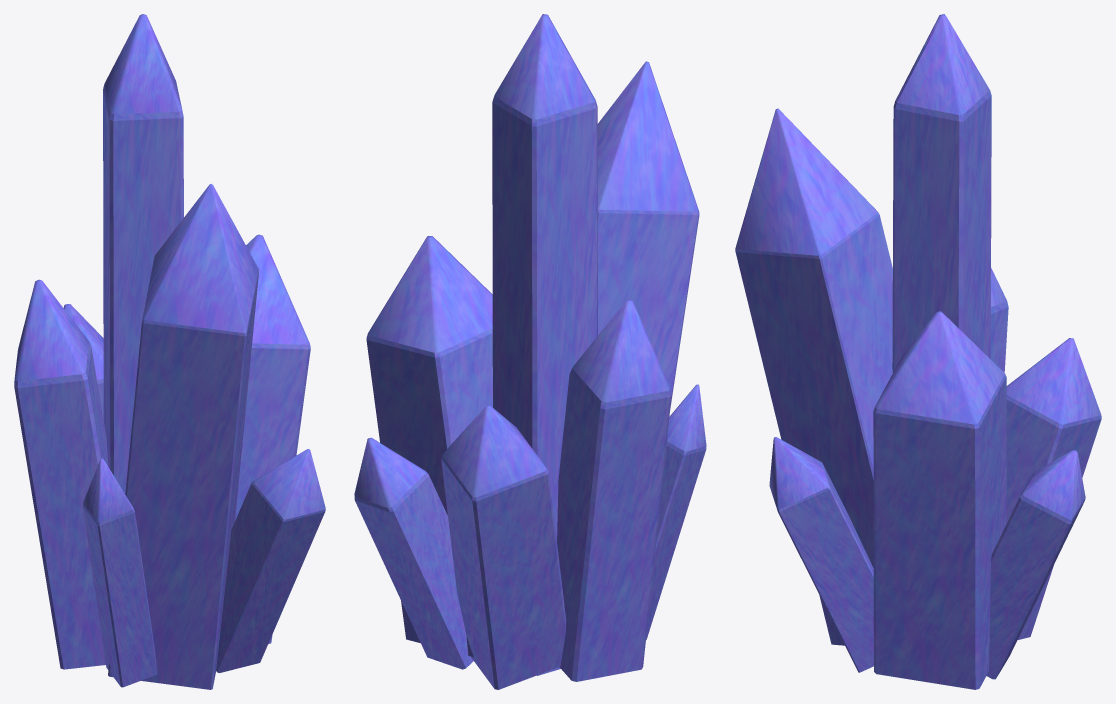
The picture shows the model from 3 angles, left to right: view 1: azimuth 30°, elevation 25°; view 2: azimuth 150°, elevation 25°; view 3: azimuth 270°, elevation 25°; orthographic projection. The views are drawn at different scales.
Parts seen in each view (by area): view 1: CrystalCrack; view 2: CrystalCrack; view 3: CrystalCrack.
Part boxes in pixels (x1=…): CrystalCrack: x1=14, y1=14, x2=325, y2=689; CrystalCrack: x1=354, y1=14, x2=706, y2=689; CrystalCrack: x1=735, y1=14, x2=1101, y2=689.
Size of the model in its own units: 23.69 by 50.47 by 26.88.
Materials: 1 (1 with a texture image).
